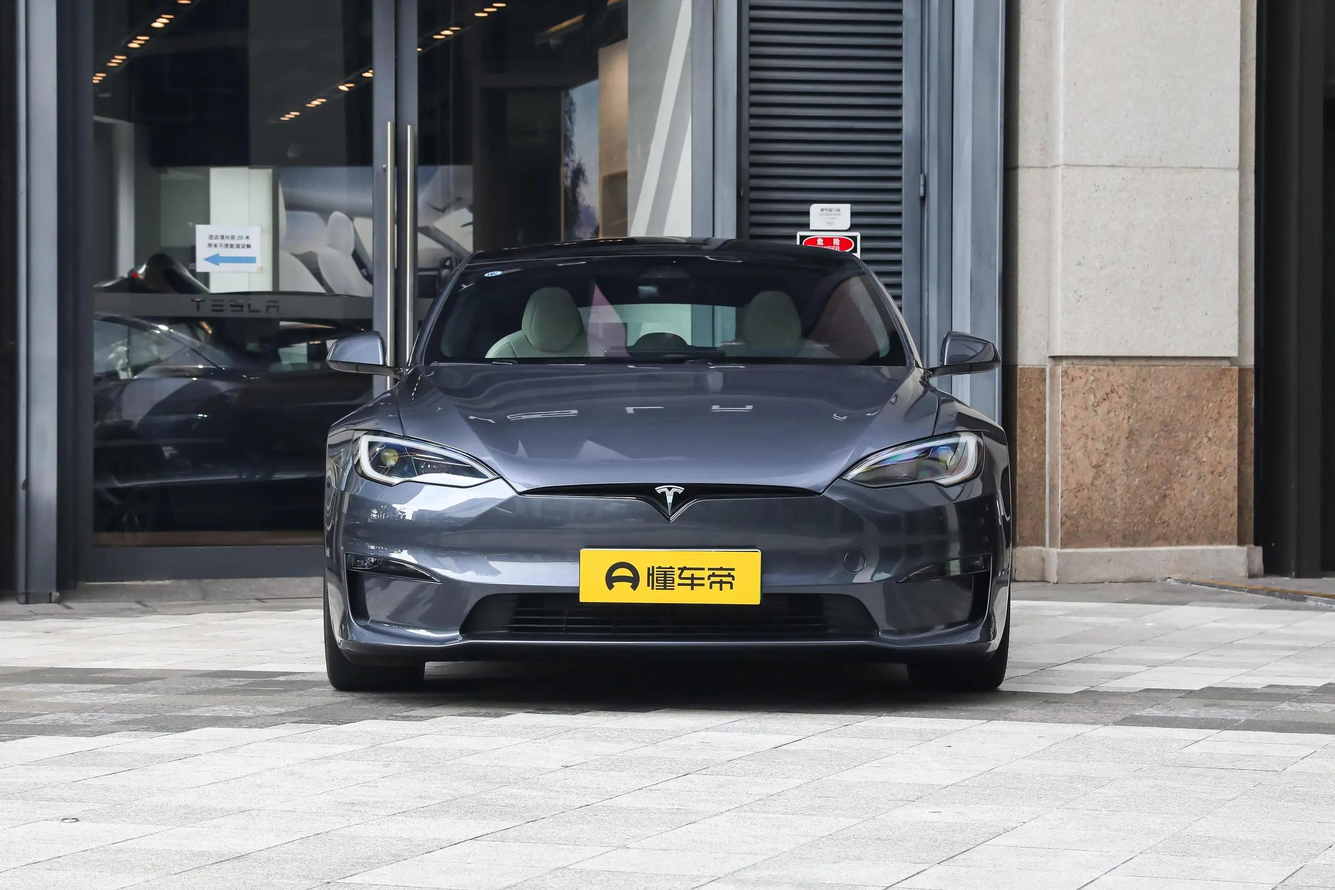Tesla: (655, 485, 683, 516)
